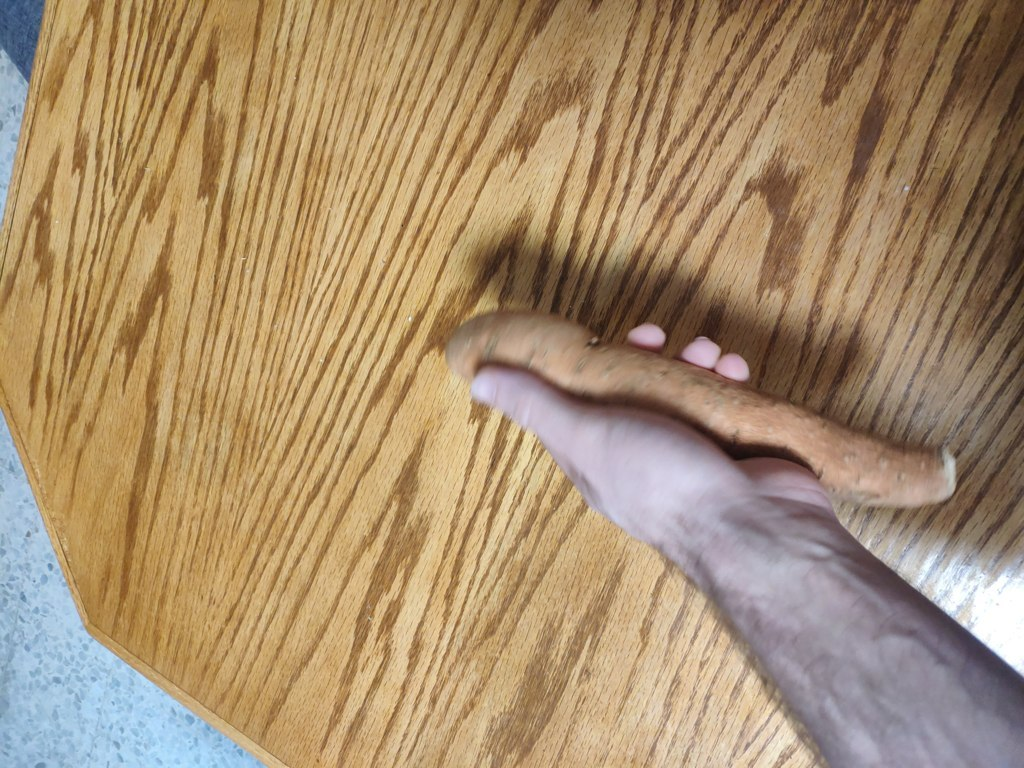Sweet Potato: (446, 290, 961, 525)
